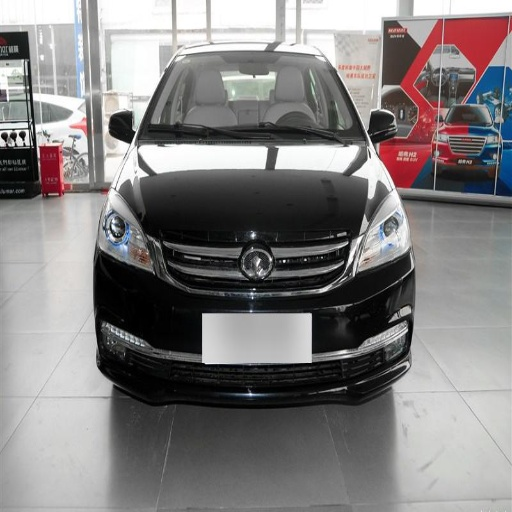front_bumper: (95, 230, 410, 404)
front_right_light: (100, 189, 154, 269)
hood: (123, 142, 390, 256)
